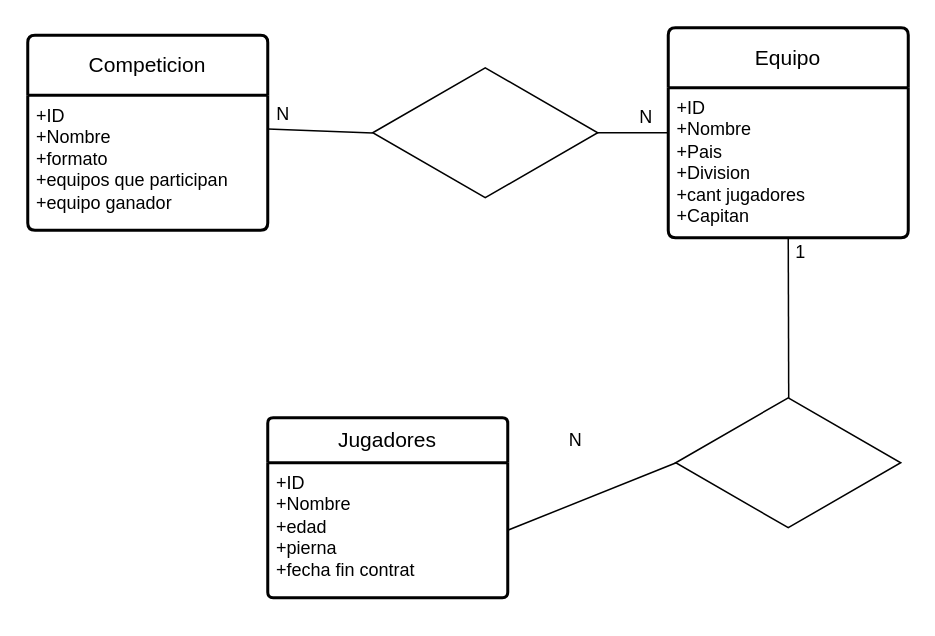
Some shapes in this 935 by 636 pixel diagram are drawn without their labels. Each missing label, with the centre of its shape:
Participa: pixel 484 132
Pertenece: pixel 787 462
